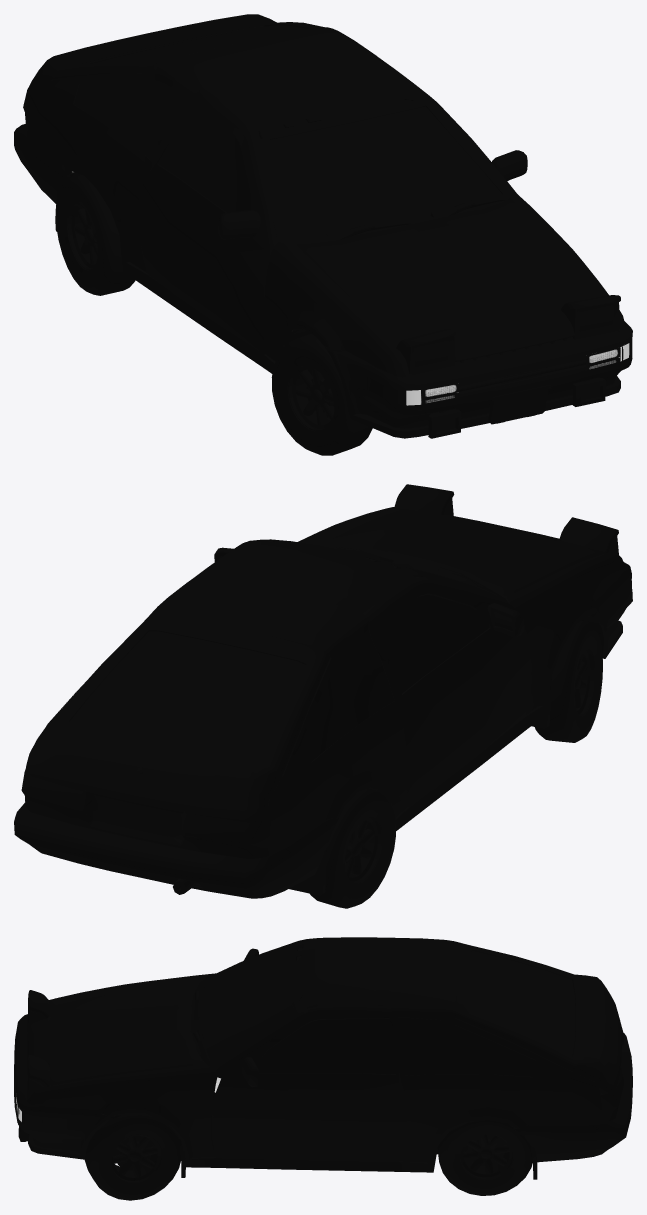
The picture shows the model from 3 angles, top to bottom: view 1: azimuth 30°, elevation 25°; view 2: azimuth 150°, elevation 25°; view 3: azimuth 270°, elevation 25°; orthographic projection. The views are drawn at different scales.
Visible parts, largest first — view 1: AE86; view 2: AE86; view 3: AE86.
Part boxes in pixels (box(x1,y1,x2,y2)): AE86: box(14, 14, 632, 455); AE86: box(14, 484, 632, 908); AE86: box(14, 937, 632, 1200).
Bounding box in the file's own units: 177 × 130 × 394.
4 materials, 2 textured.
